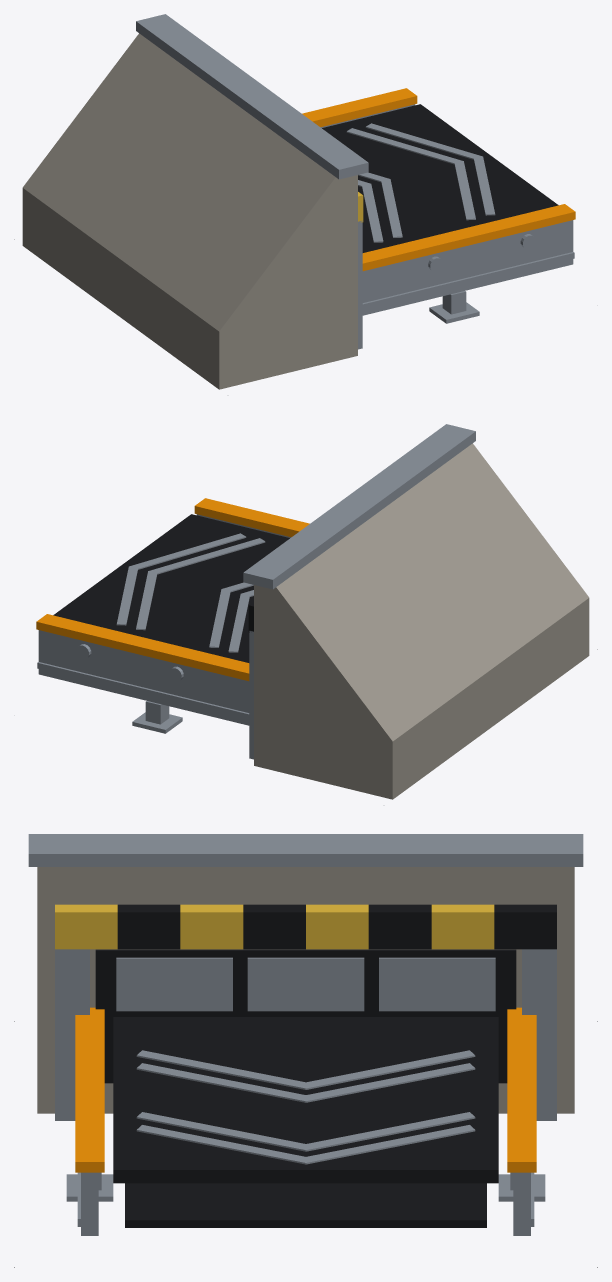
Rendered from convoyeur_tunnel_sortie_t2.glb.
The picture shows the model from 3 angles, top to bottom: view 1: azimuth 30°, elevation 25°; view 2: azimuth 150°, elevation 25°; view 3: azimuth 270°, elevation 25°; orthographic projection. The views are drawn at different scales.
Visible parts, largest first — view 1: bouche.012, pieces_acier.048, pieces_noir.024, pieces_rive_t2.006, bande_acier.042; view 2: bouche.012, pieces_acier.048, pieces_noir.024, pieces_rive_t2.006, bande_acier.042; view 3: pieces_noir.024, pieces_acier.048, bouche.012, pieces_jaune.018, bande_acier.042, pieces_rive_t2.006.
Boxes of the visible parts, x1,y1,x2,y2 form: bouche.012: [22, 33, 357, 389]; pieces_acier.048: [136, 14, 574, 349]; pieces_noir.024: [322, 104, 558, 252]; pieces_rive_t2.006: [302, 88, 575, 271]; bande_acier.042: [346, 123, 495, 242]; bouche.012: [254, 443, 589, 799]; pieces_acier.048: [37, 424, 475, 759]; pieces_noir.024: [53, 514, 289, 662]; pieces_rive_t2.006: [36, 498, 309, 681]; bande_acier.042: [116, 533, 265, 652]; pieces_noir.024: [95, 904, 556, 1227]; pieces_acier.048: [28, 834, 583, 1235]; bouche.012: [37, 867, 574, 1113]; pieces_jaune.018: [55, 904, 494, 949]; bande_acier.042: [136, 1050, 475, 1164]; pieces_rive_t2.006: [75, 1007, 536, 1172].
Bounding box in the file's own units: 1 × 0.5 × 1.
